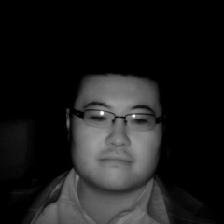normal: (57, 61, 176, 196)
